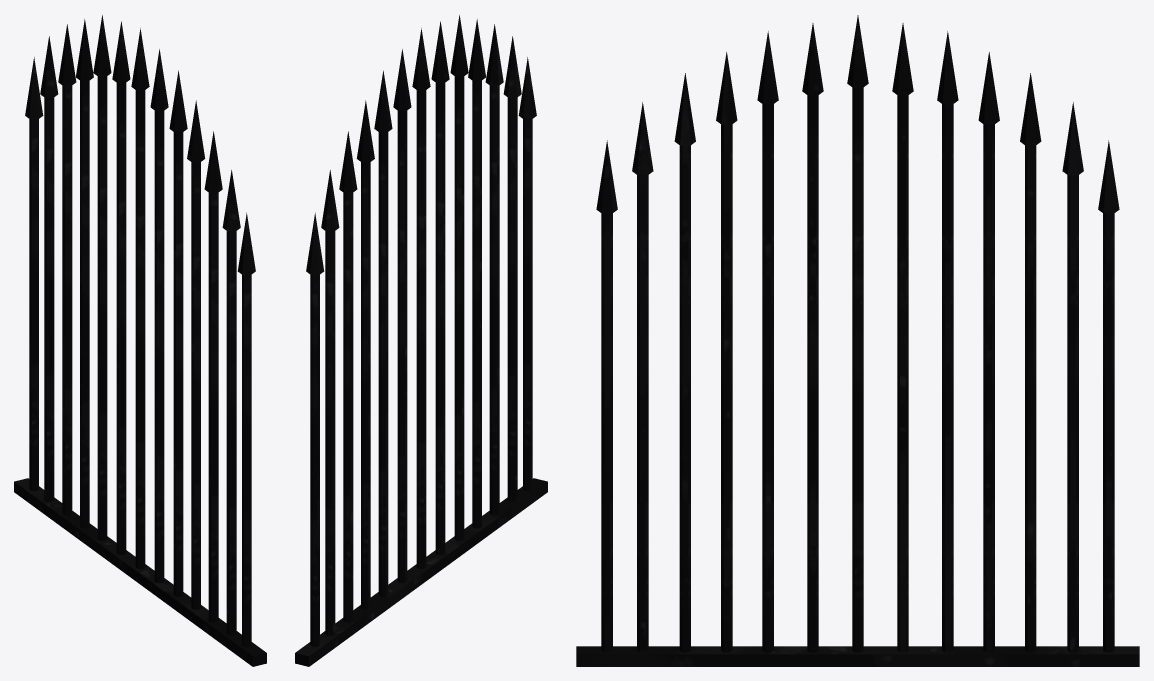
Rendered from gen_gate_1.fbx.
3 renders of one model, left to right at view 1: azimuth 30°, elevation 25°; view 2: azimuth 150°, elevation 25°; view 3: azimuth 270°, elevation 25°, orthographic. The views are drawn at different scales.
Parts seen in each view (by area): view 1: gen_gate_1; view 2: gen_gate_1; view 3: gen_gate_1.
Part boxes in pixels (x1=…): gen_gate_1: x1=14, y1=15, x2=266, y2=666; gen_gate_1: x1=295, y1=15, x2=547, y2=666; gen_gate_1: x1=576, y1=15, x2=1139, y2=666.
Size of the model in its own units: 27.19 by 1017 by 800.
